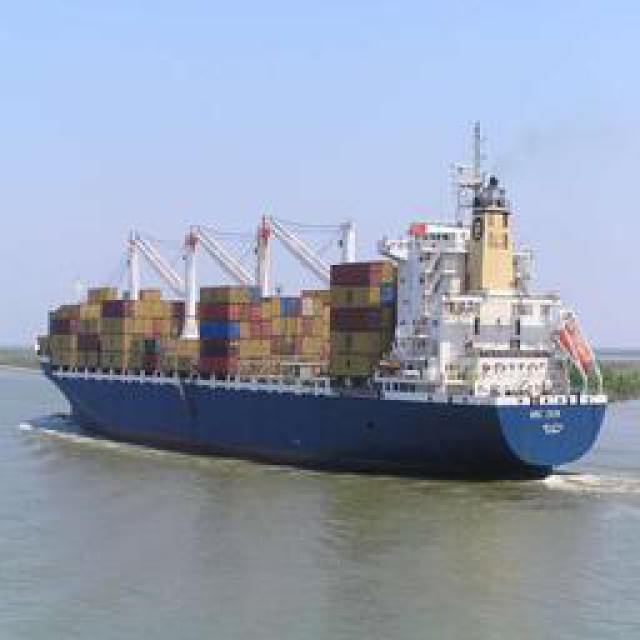Ship: (36, 111, 614, 491)
